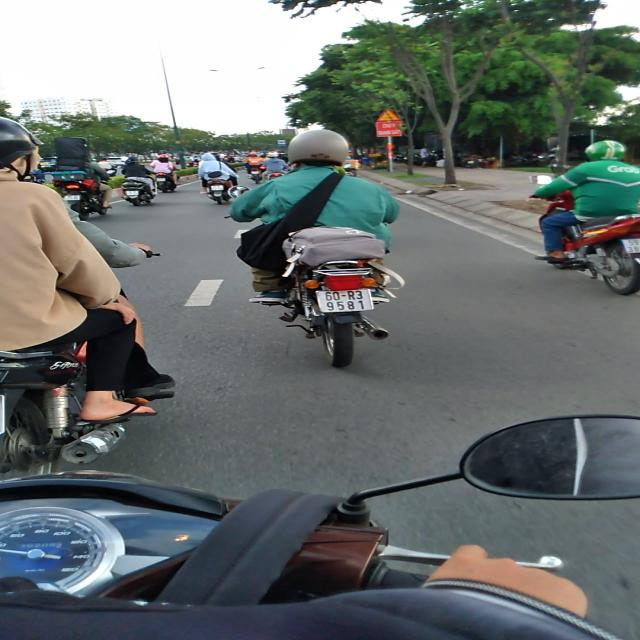Ben xe buyt: (276, 139, 287, 147)
Nguy hiem: (376, 108, 402, 122)
